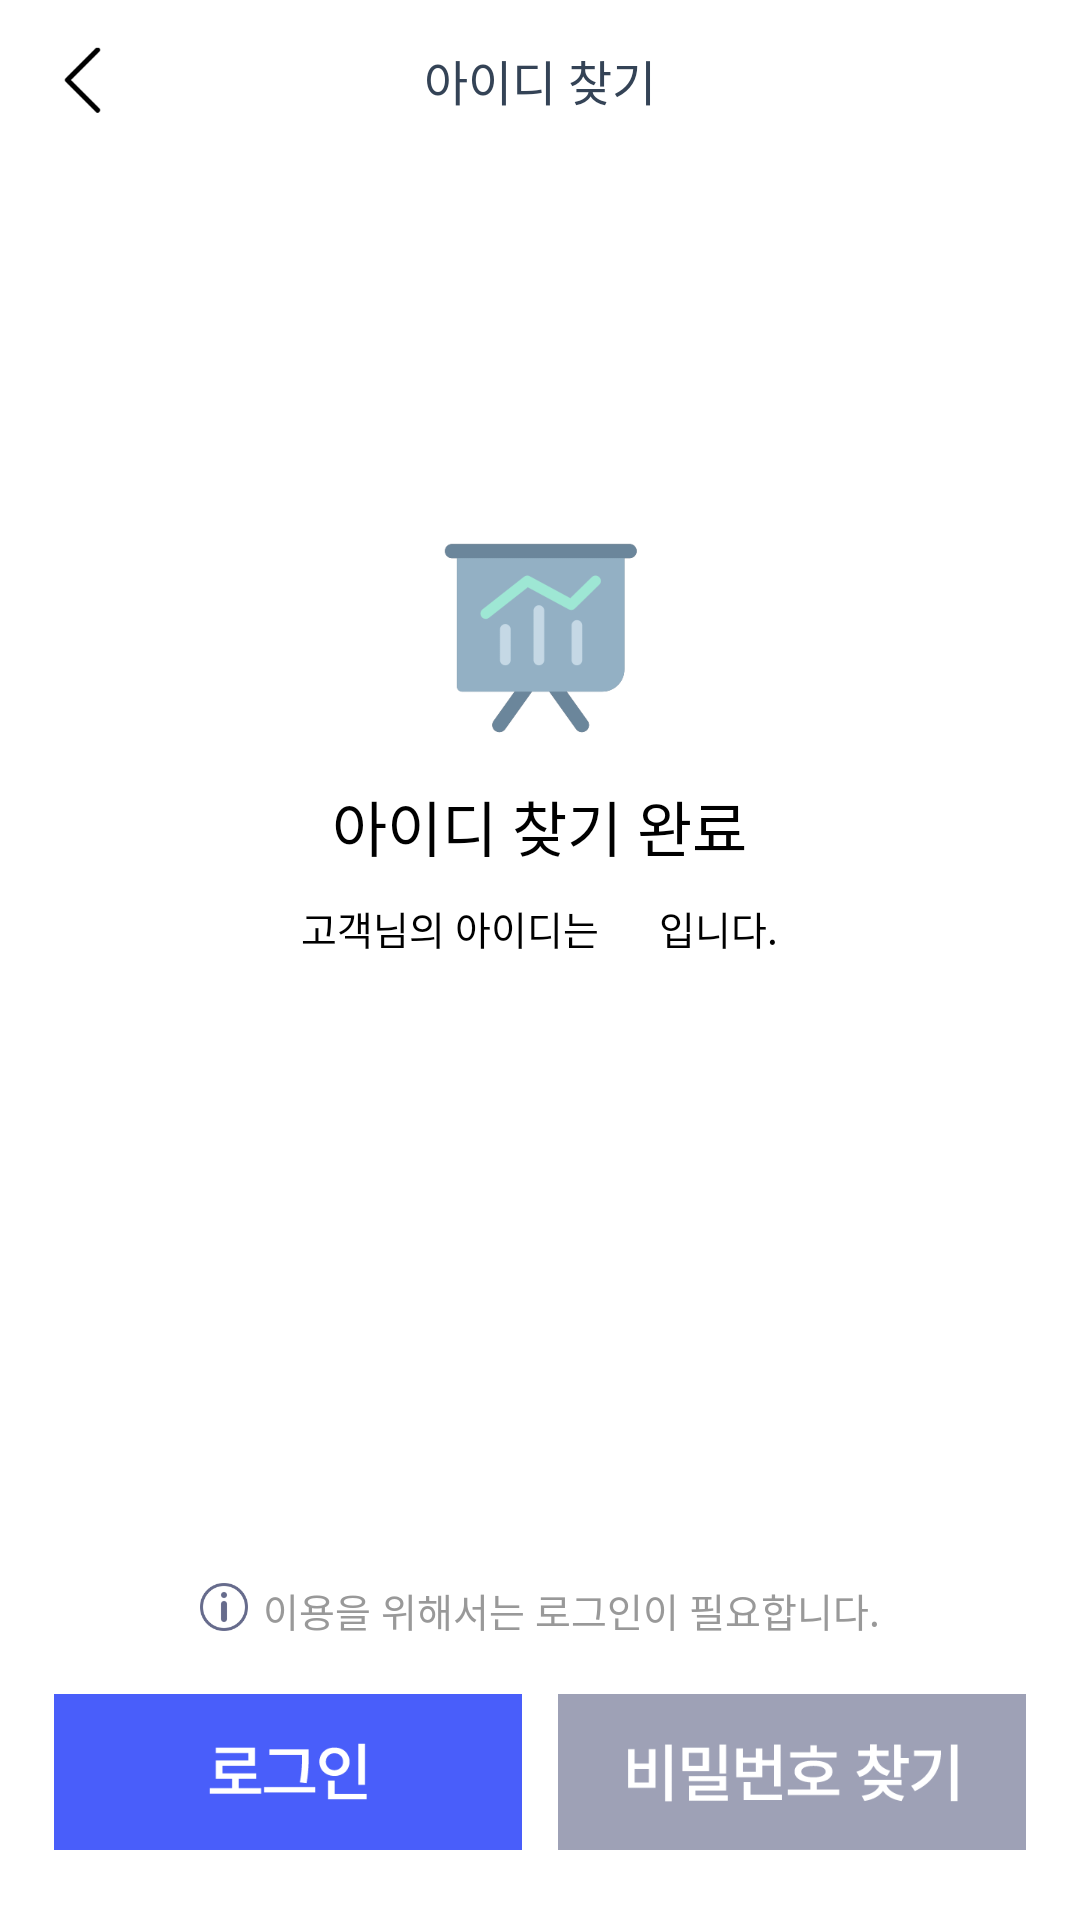

Icon bounding boxes for this 1080×1920 phone screenshot, format (left=x1, top=y1, right=x2, bottom=y2):
login info: (left=200, top=1583, right=248, bottom=1631)
top back: (left=64, top=47, right=101, bottom=113)
